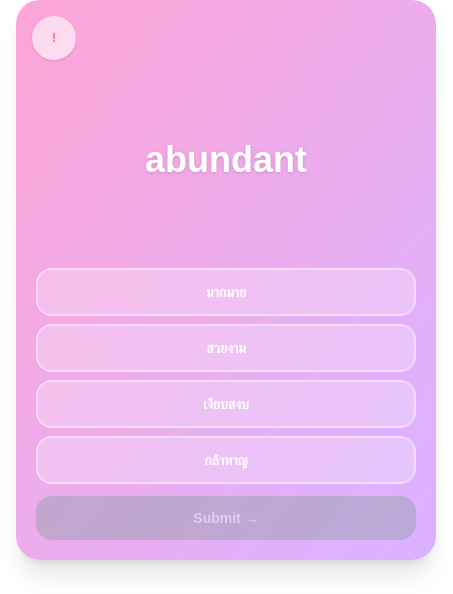
MultipleChoiceCard — after submit › shows correct badge when right answer selected
Click the button "มากมาย".
click(226, 292)  # box [36,268,416,316]
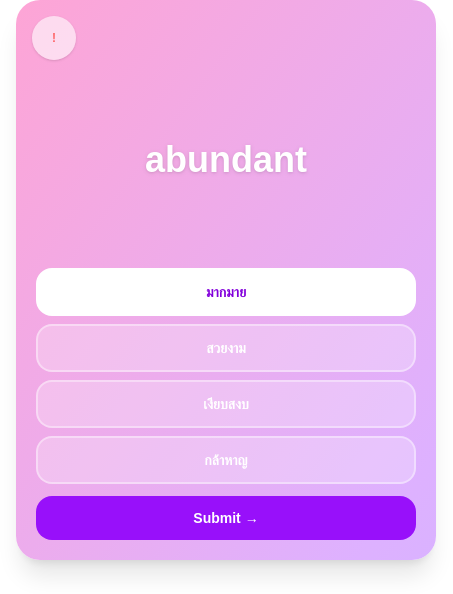
Click the button "Submit →".
click(226, 518)  # box [36,496,416,540]
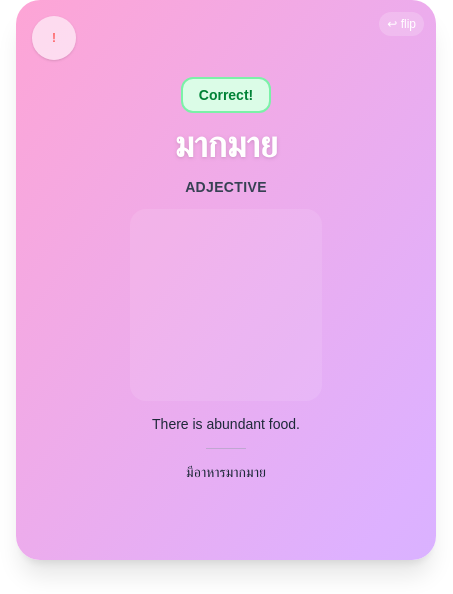
Expected: the text "Correct!" is shown, [181,77,271,113]
